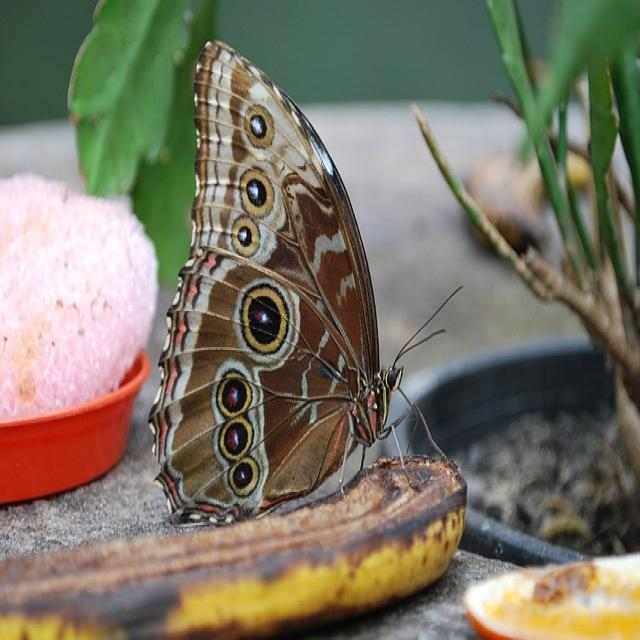butterfly: (147, 40, 398, 532)
